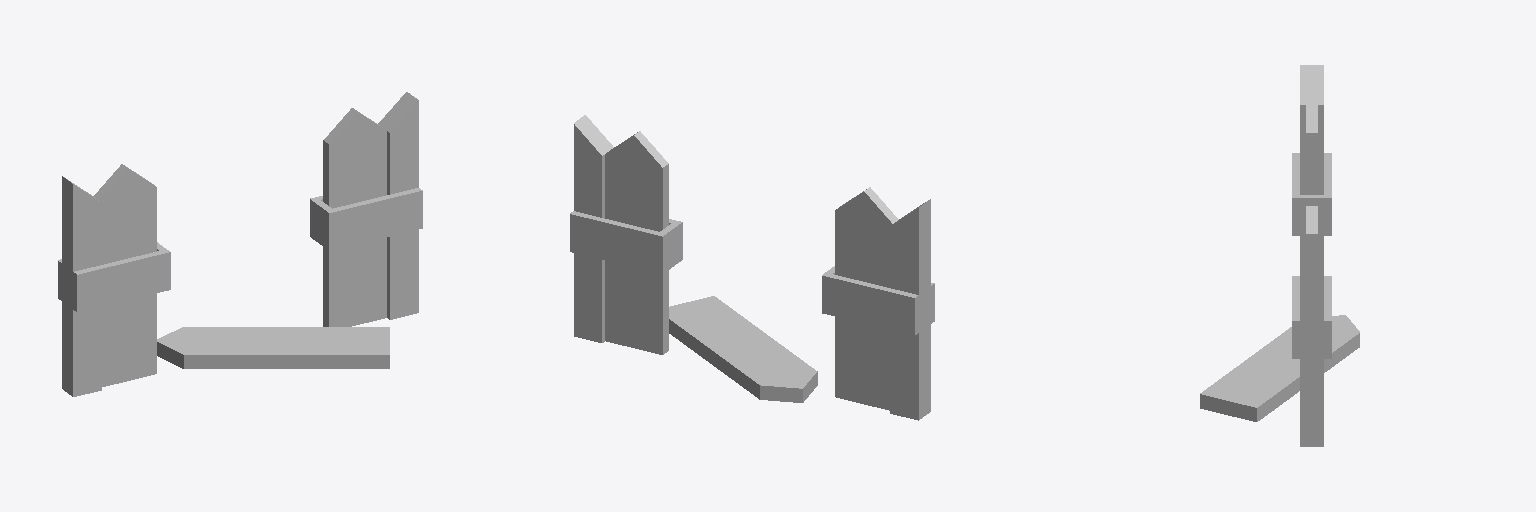
The model's file is fenceDamaged.obj.
3 views of the same model, side by side, from view 1: azimuth 30°, elevation 25°; view 2: azimuth 150°, elevation 25°; view 3: azimuth 270°, elevation 25° (orthographic).
Parts seen in each view (by area): view 1: fenceDamaged, board; view 2: fenceDamaged, board; view 3: fenceDamaged, board.
Part boxes in pixels (x1,y1,x2,y2): fenceDamaged: (62,92,418,396); board: (58,188,422,312); fenceDamaged: (574,115,930,420); board: (570,211,934,335); fenceDamaged: (1200,65,1359,446); board: (1292,153,1331,358).
Bounding box in the file's own units: 1 × 0.59 × 0.4036.